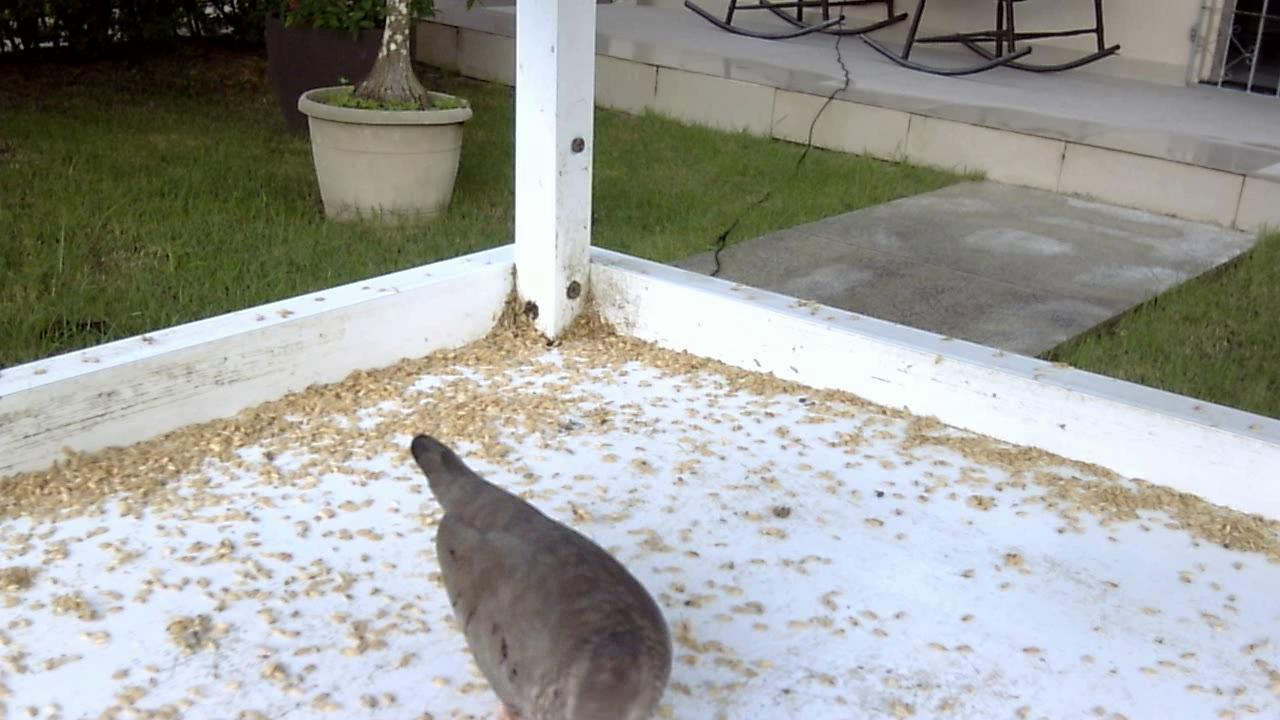rolinha: (394, 419, 680, 712)
